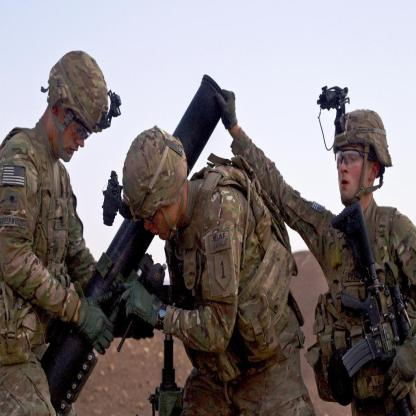Helmet: (41, 49, 121, 162), (118, 125, 188, 240), (332, 105, 392, 213)
